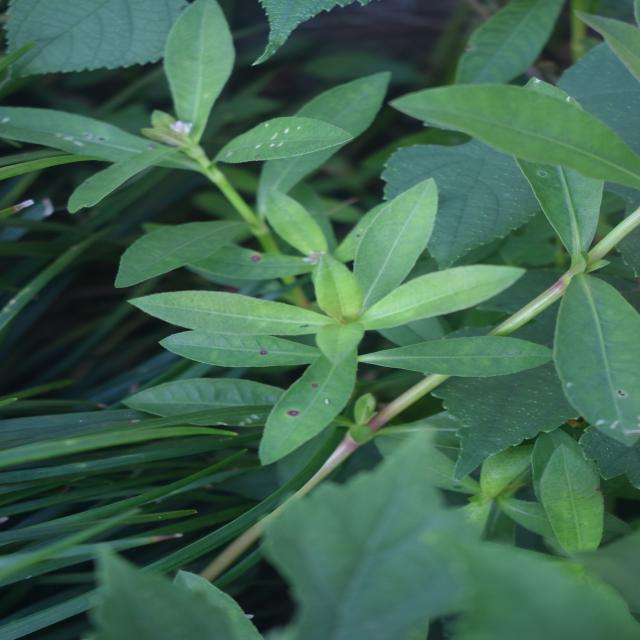Alligatorweed: (190, 155, 437, 514), (371, 17, 602, 394)
